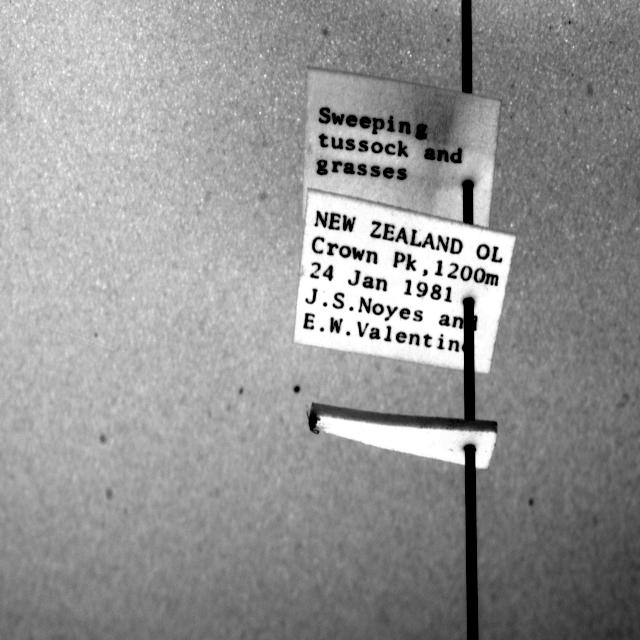typed_label: (294, 189, 515, 373), (302, 68, 501, 227)
